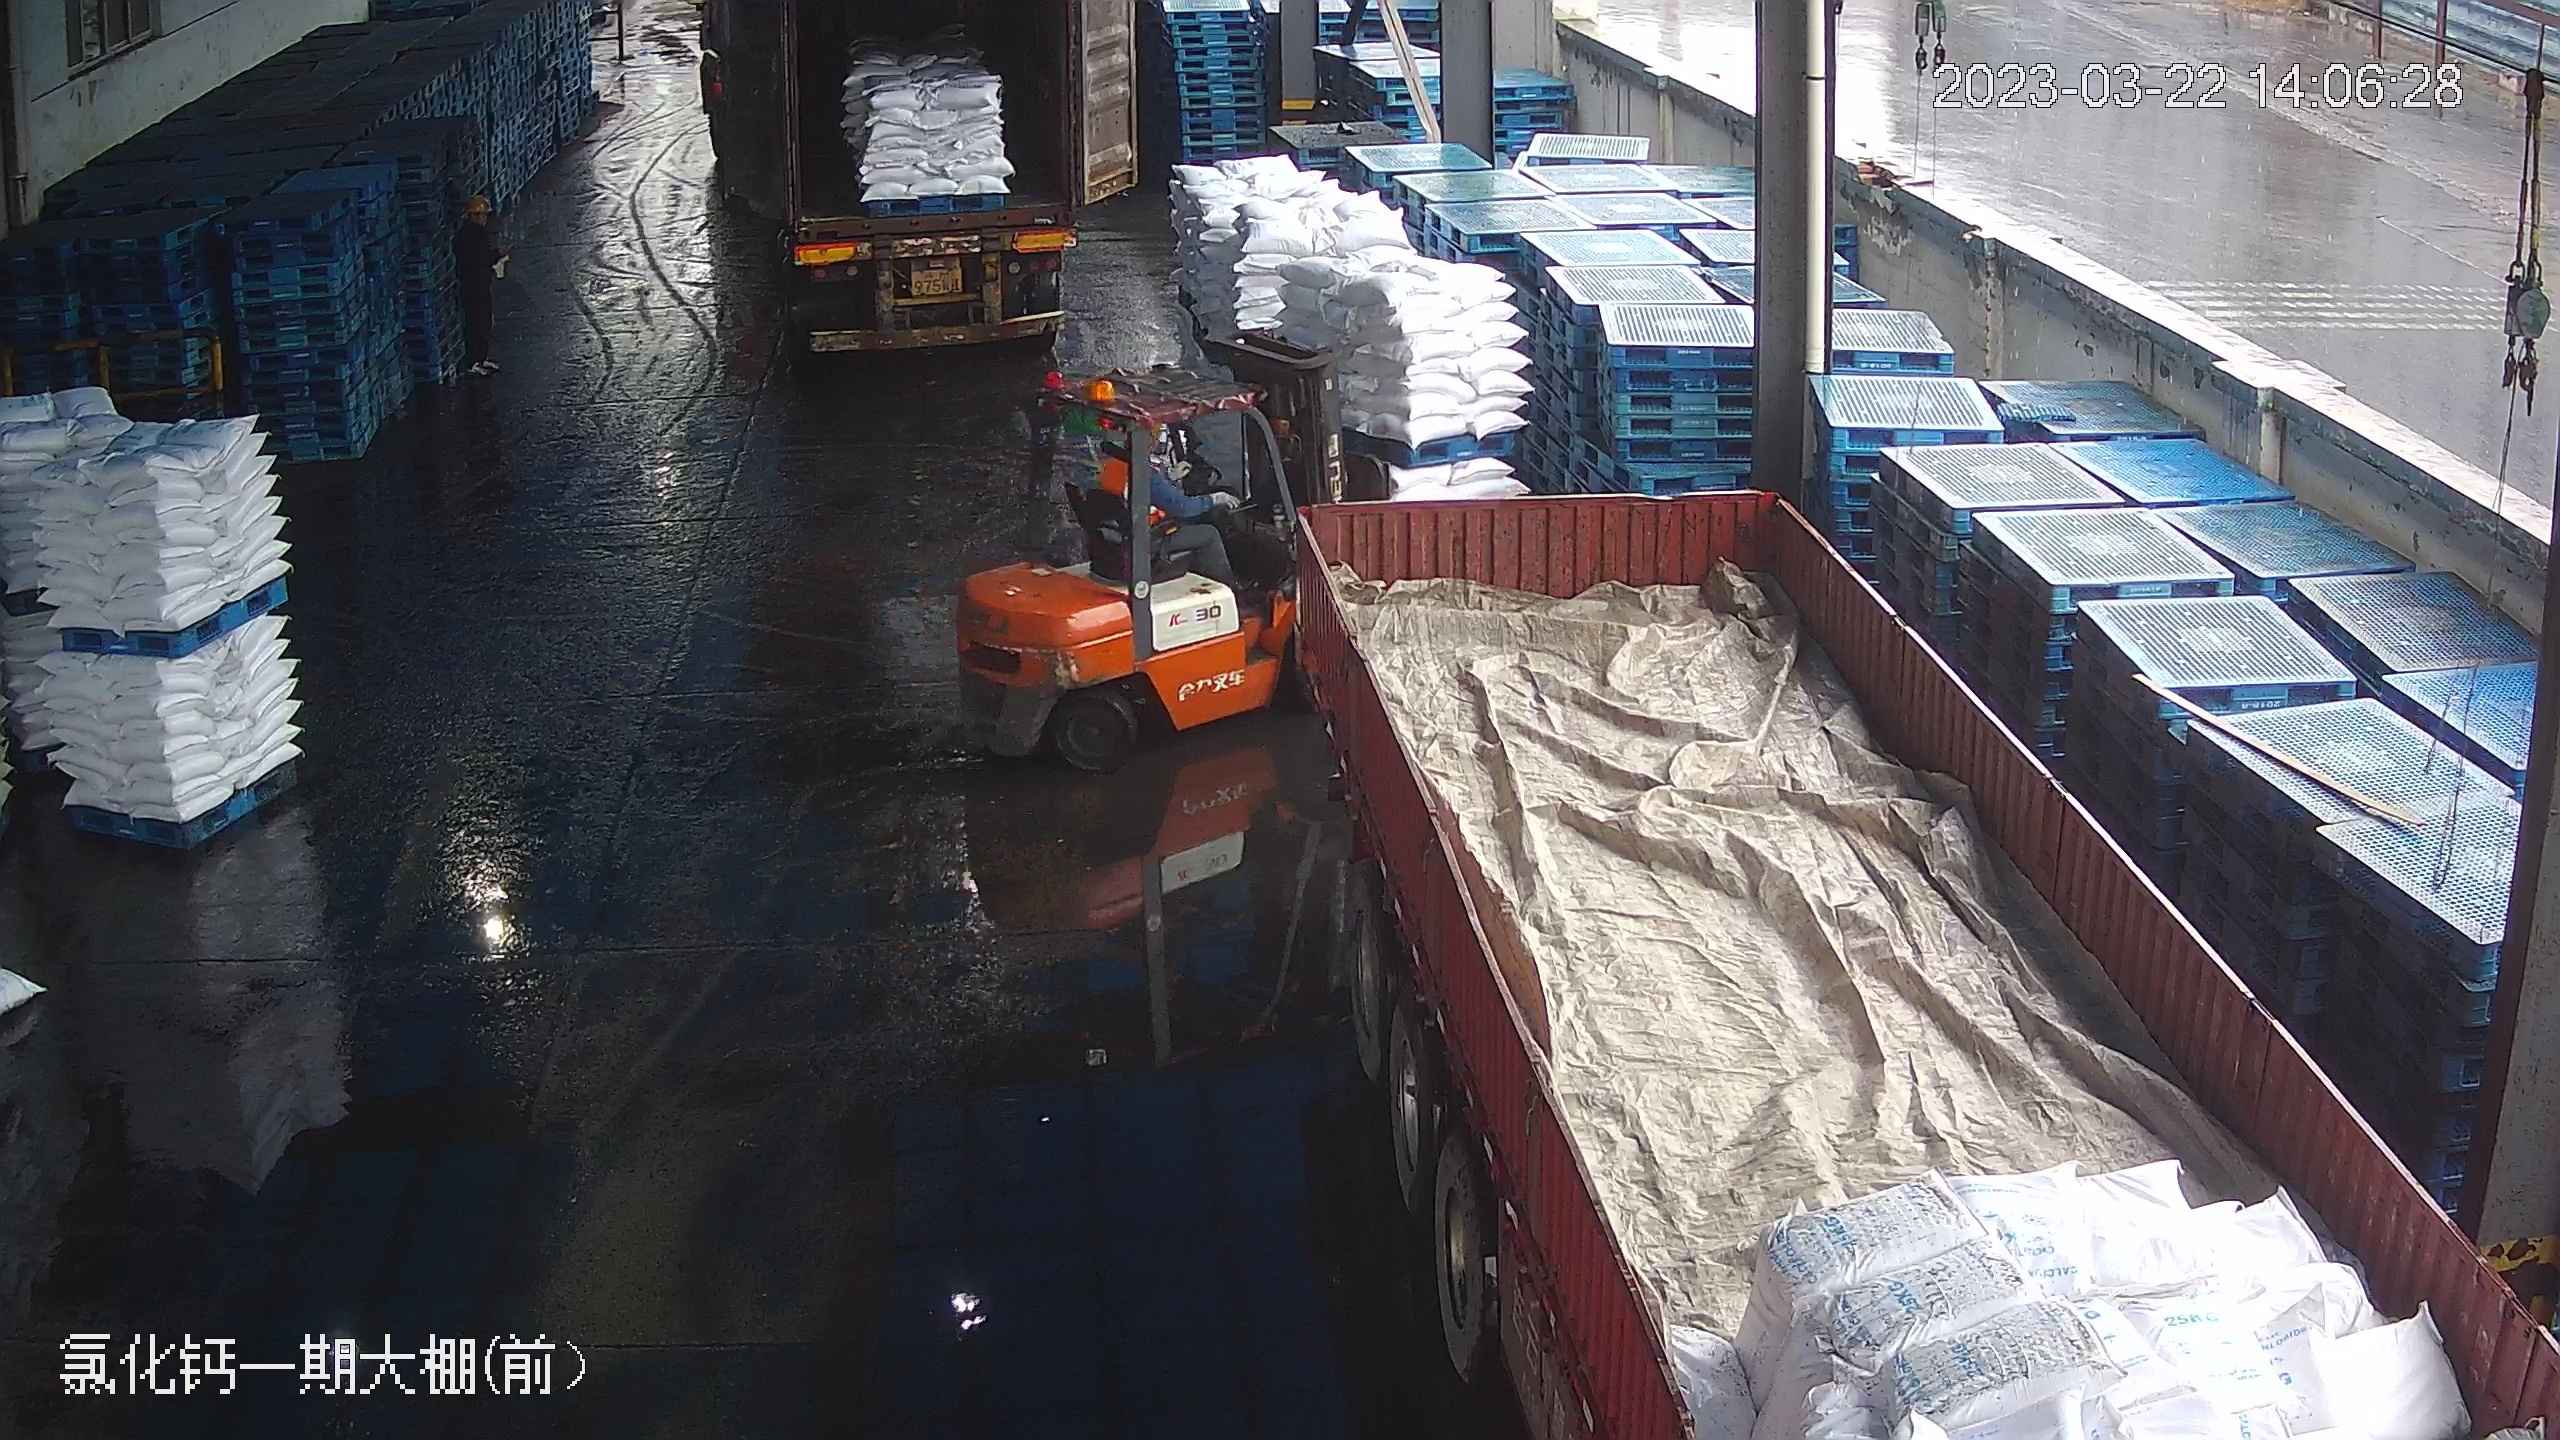head: (455, 192, 504, 246)
helmet: (465, 192, 492, 214)
people: (1119, 405, 1245, 584), (449, 188, 509, 375)
truck: (1222, 478, 2549, 1437), (736, 0, 1102, 348)
